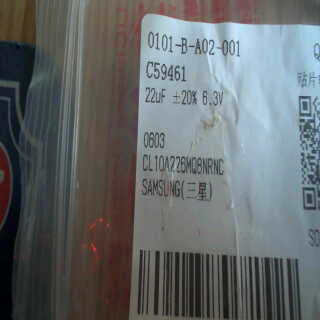22uF: (138, 82, 168, 105)
